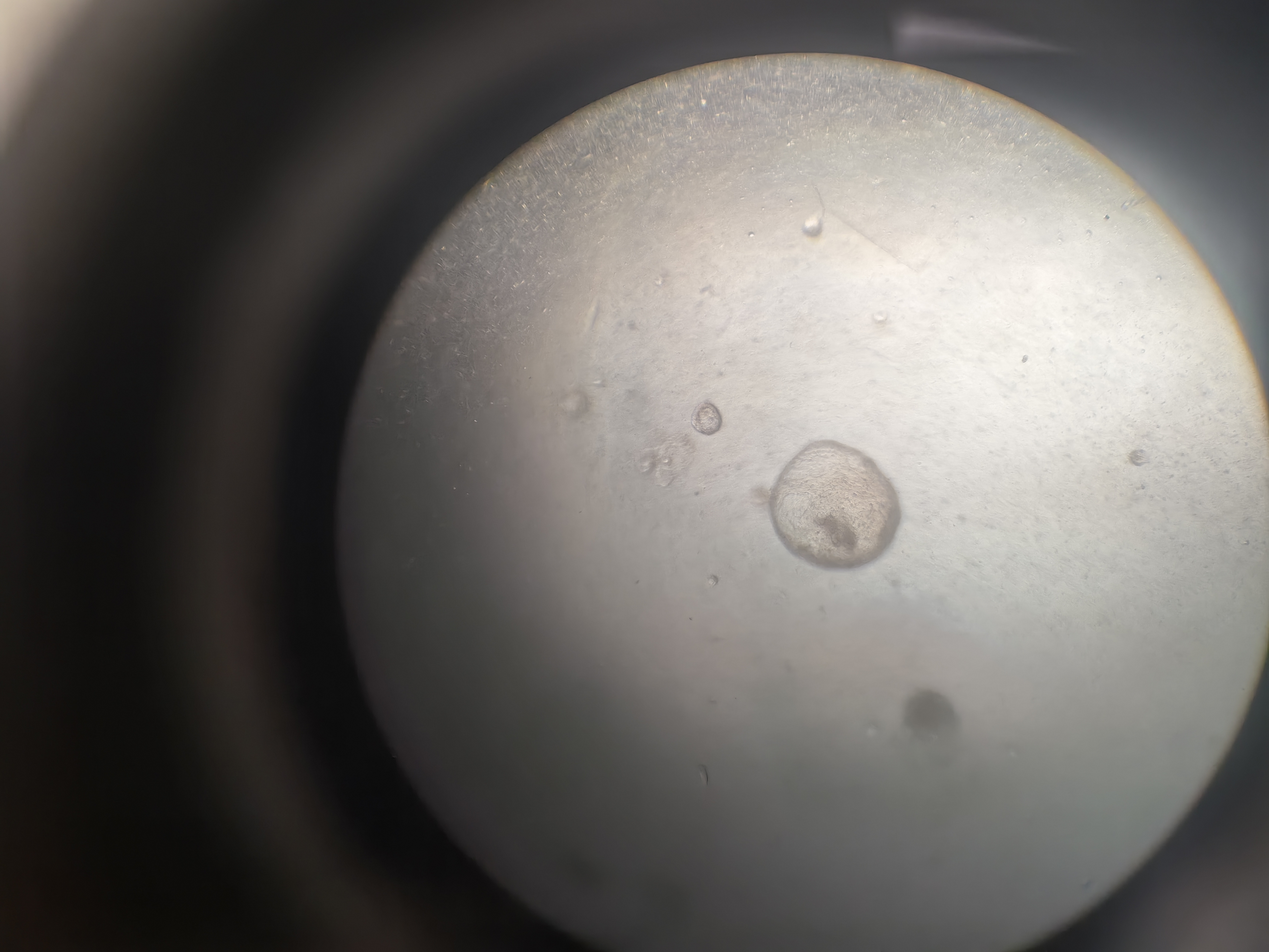organoid: (761, 302, 843, 400), (385, 456, 427, 506), (775, 667, 819, 713)
